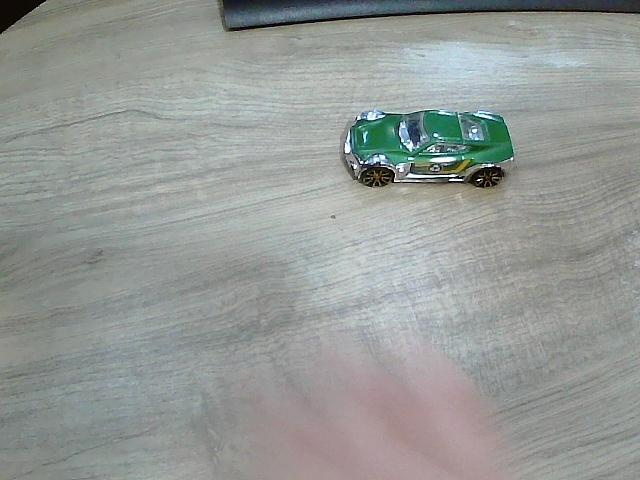Carro: (340, 109, 516, 189)
